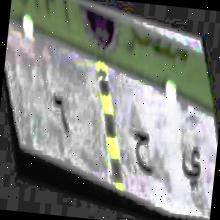6: (46, 82, 76, 142)
7aa: (126, 120, 160, 180)
yaa: (176, 140, 206, 202)
